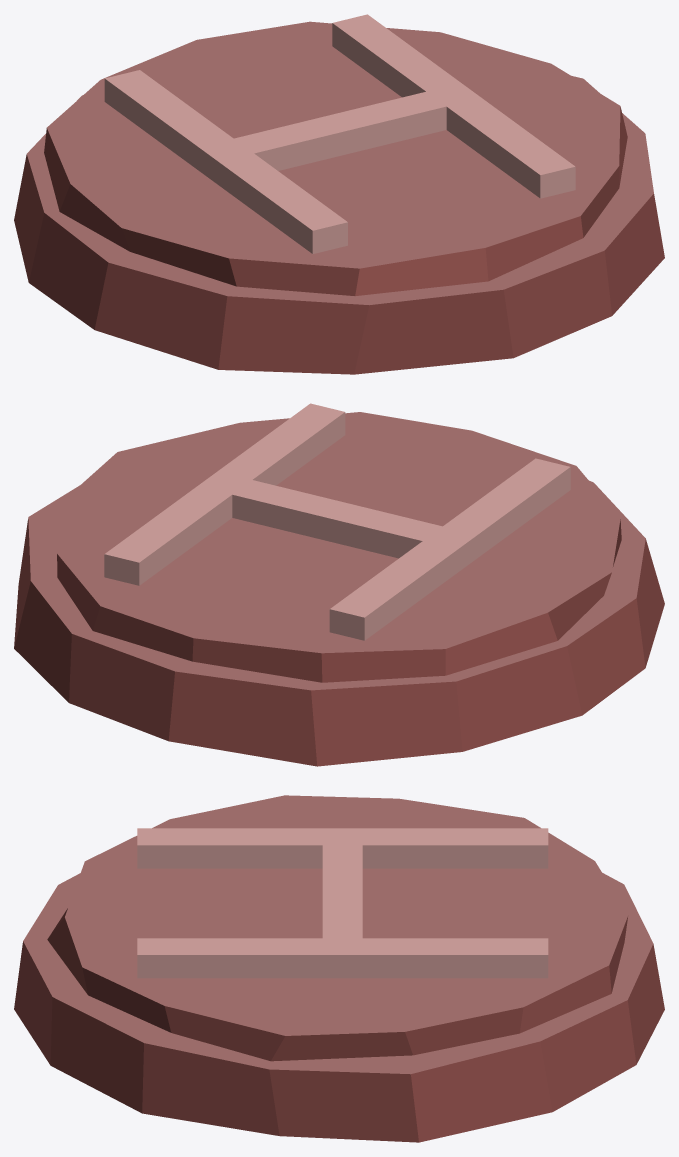
File: Spellstone_Titan.glb
The picture shows the model from 3 angles, top to bottom: view 1: azimuth 30°, elevation 25°; view 2: azimuth 150°, elevation 25°; view 3: azimuth 270°, elevation 25°; orthographic projection.
Visible parts, largest first — view 1: Spellstone_Titan; view 2: Spellstone_Titan; view 3: Spellstone_Titan.
Boxes of the visible parts, box(x1,y1,x2,y2) form: Spellstone_Titan: box(14, 14, 664, 374); Spellstone_Titan: box(14, 403, 664, 766); Spellstone_Titan: box(14, 795, 664, 1142).
Size of the model in its own units: 0.831 by 0.163 by 0.8426.
